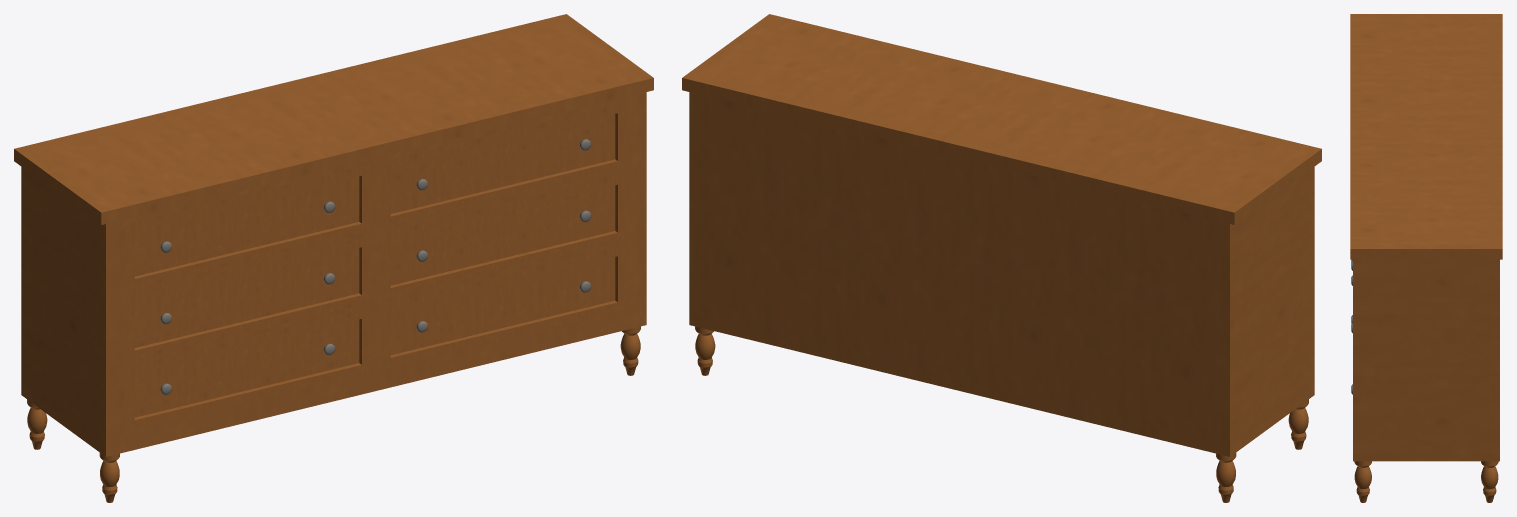
File: Drawer36.fbx
3 renders of one model, left to right at view 1: azimuth 30°, elevation 25°; view 2: azimuth 150°, elevation 25°; view 3: azimuth 270°, elevation 25°, orthographic. The views are drawn at different scales.
Parts seen in each view (by area): view 1: Drawer36_Body, Drawer36_4, Drawer36_1, Drawer36_2, Drawer36_3, Drawer36_5, Drawer36_6; view 2: Drawer36_Body; view 3: Drawer36_Body.
Boxes of the visible parts, left/top/right/bottom form: Drawer36_Body: left=14, top=14, right=653, bottom=502; Drawer36_4: left=381, top=173, right=626, bottom=299; Drawer36_1: left=125, top=164, right=370, bottom=290; Drawer36_2: left=381, top=102, right=626, bottom=227; Drawer36_3: left=125, top=236, right=370, bottom=361; Drawer36_5: left=125, top=307, right=370, bottom=431; Drawer36_6: left=381, top=245, right=626, bottom=369; Drawer36_Body: left=682, top=14, right=1321, bottom=502; Drawer36_Body: left=1350, top=14, right=1502, bottom=502.
Bounding box in the file's own units: 208 × 107 × 56.99.
